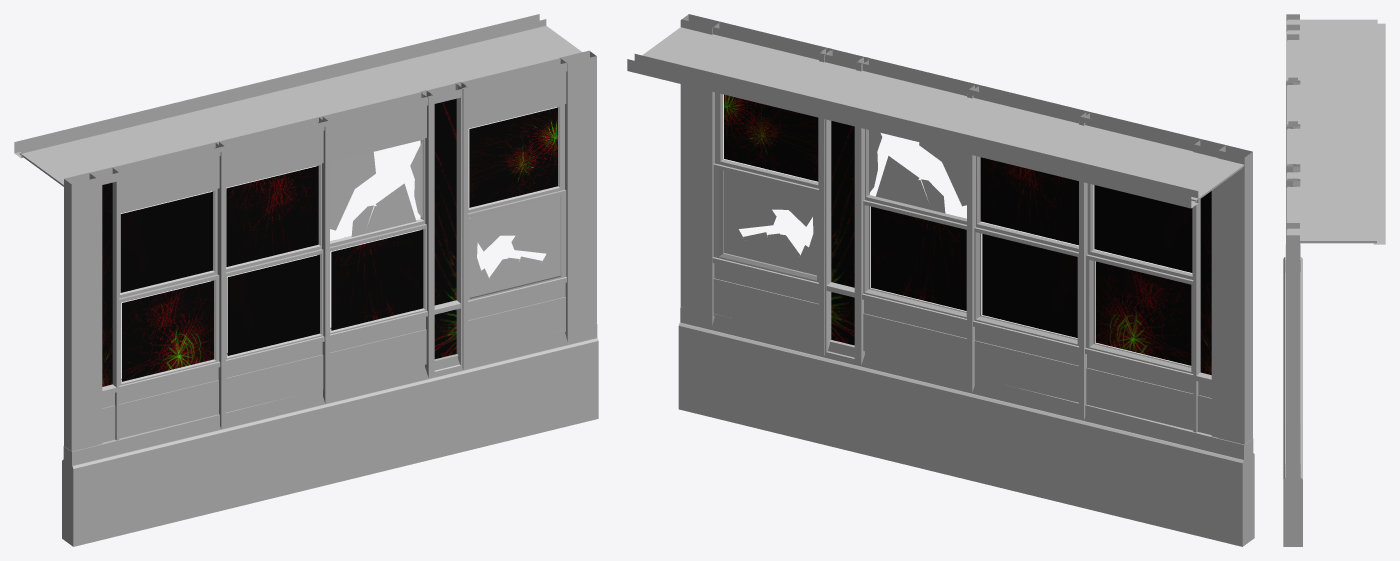
File: store_front_windows_broken_4x1_a.fbx
The picture shows the model from 3 angles, left to right: view 1: azimuth 30°, elevation 25°; view 2: azimuth 150°, elevation 25°; view 3: azimuth 270°, elevation 25°; orthographic projection. The views are drawn at different scales.
Visible parts, largest first — view 1: store_front_windows_broken_4x1_a_LOD0; view 2: store_front_windows_broken_4x1_a_LOD0; view 3: store_front_windows_broken_4x1_a_LOD0.
Part boxes in pixels (left/top/right/bottom): store_front_windows_broken_4x1_a_LOD0: left=14, top=14, right=598, bottom=546; store_front_windows_broken_4x1_a_LOD0: left=627, top=14, right=1254, bottom=546; store_front_windows_broken_4x1_a_LOD0: left=1283, top=14, right=1385, bottom=546.
Bounding box in the file's own units: 600 × 117 × 395.
